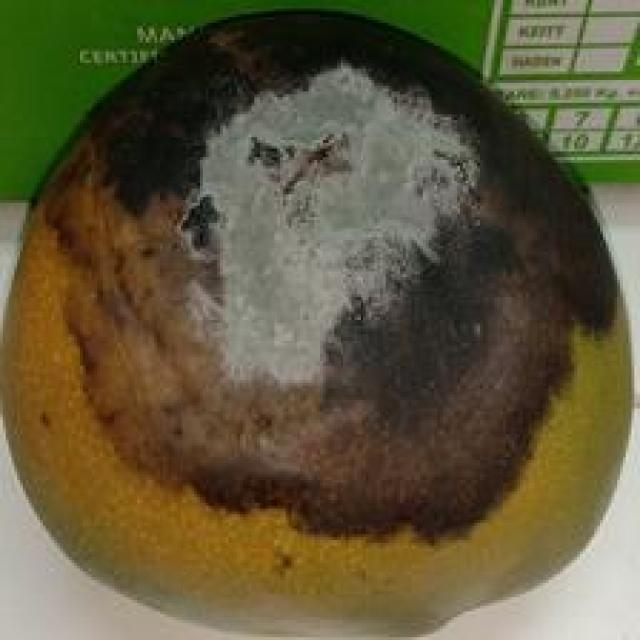Bad_Mango: (4, 15, 630, 633)
